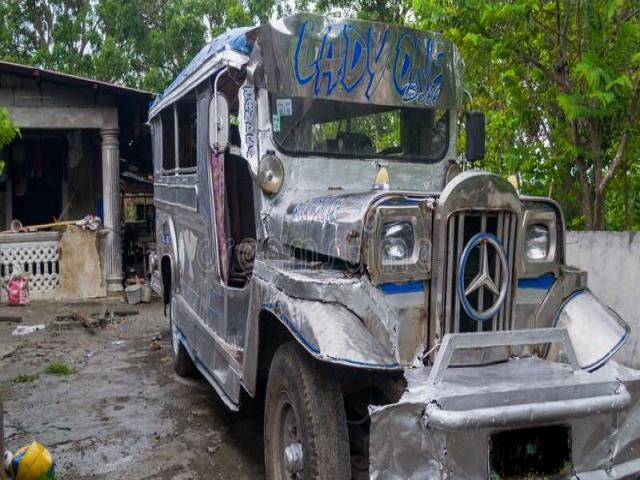jeepney: (136, 0, 616, 480)
